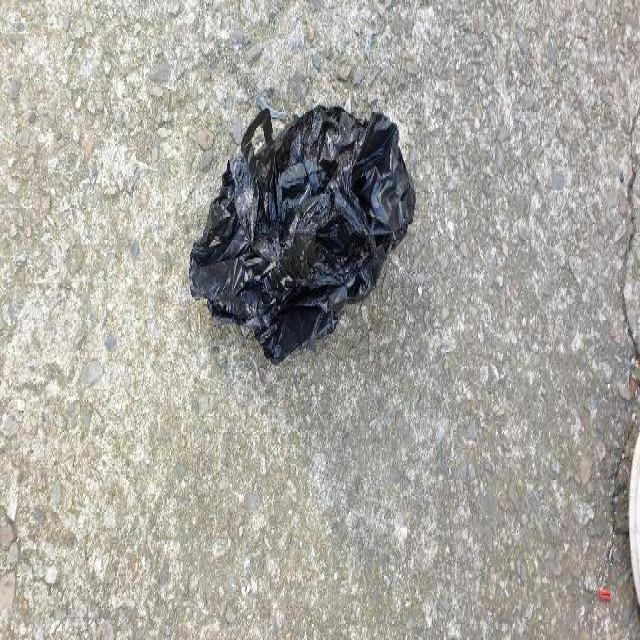plastic bag: (188, 98, 419, 369)
